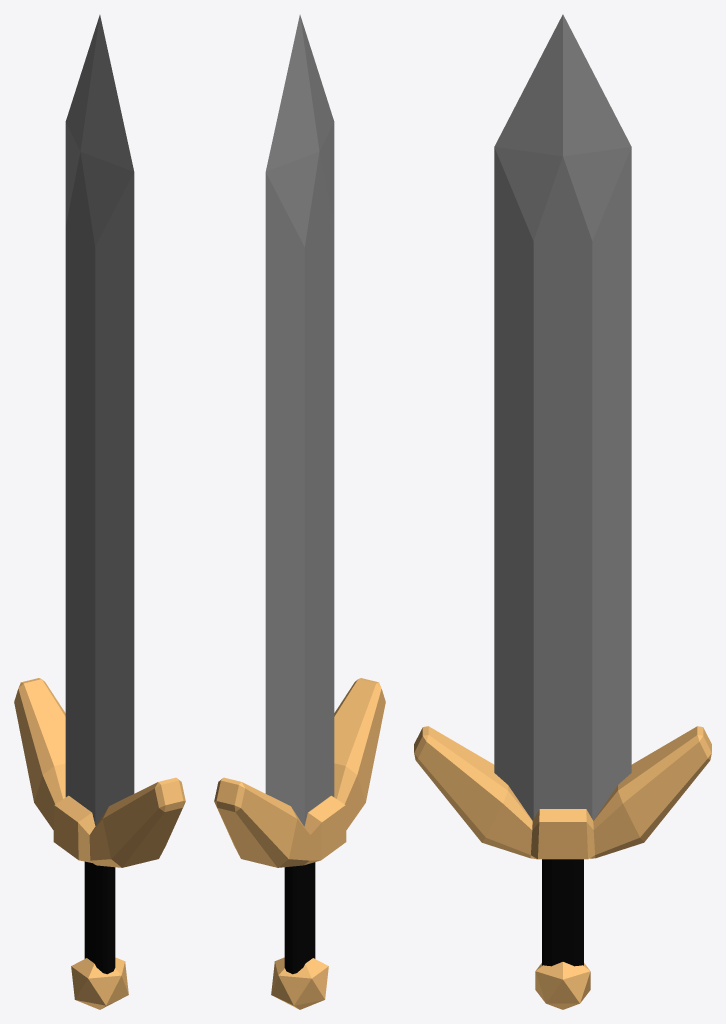
Rendered from rusty blade.fbx.
3 renders of one model, left to right at view 1: azimuth 30°, elevation 25°; view 2: azimuth 150°, elevation 25°; view 3: azimuth 270°, elevation 25°, orthographic.
Parts seen in each view (by area): view 1: Cube, Cube.001, Icosphere; view 2: Cube, Cube.001, Icosphere; view 3: Cube, Cube.001, Icosphere.
Boxes of the visible parts, x1,y1,x2,y2 form: Cube: (65,15,134,974); Cube.001: (14,678,185,867); Icosphere: (71,957,128,1009); Cube: (265,15,334,974); Cube.001: (214,678,385,867); Icosphere: (271,957,328,1009); Cube: (494,14,631,966); Cube.001: (414,726,711,859); Icosphere: (535,962,590,1009).
Size of the model in its own units: 43.32 by 609 by 165.
